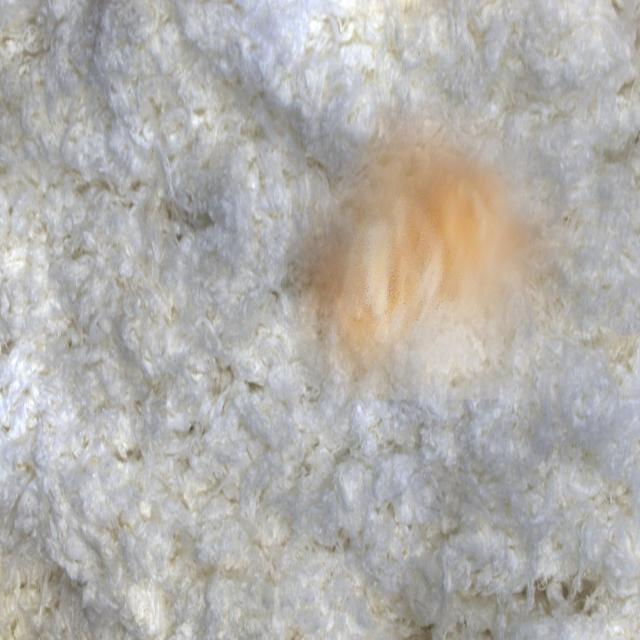dust: (287, 69, 585, 400)
